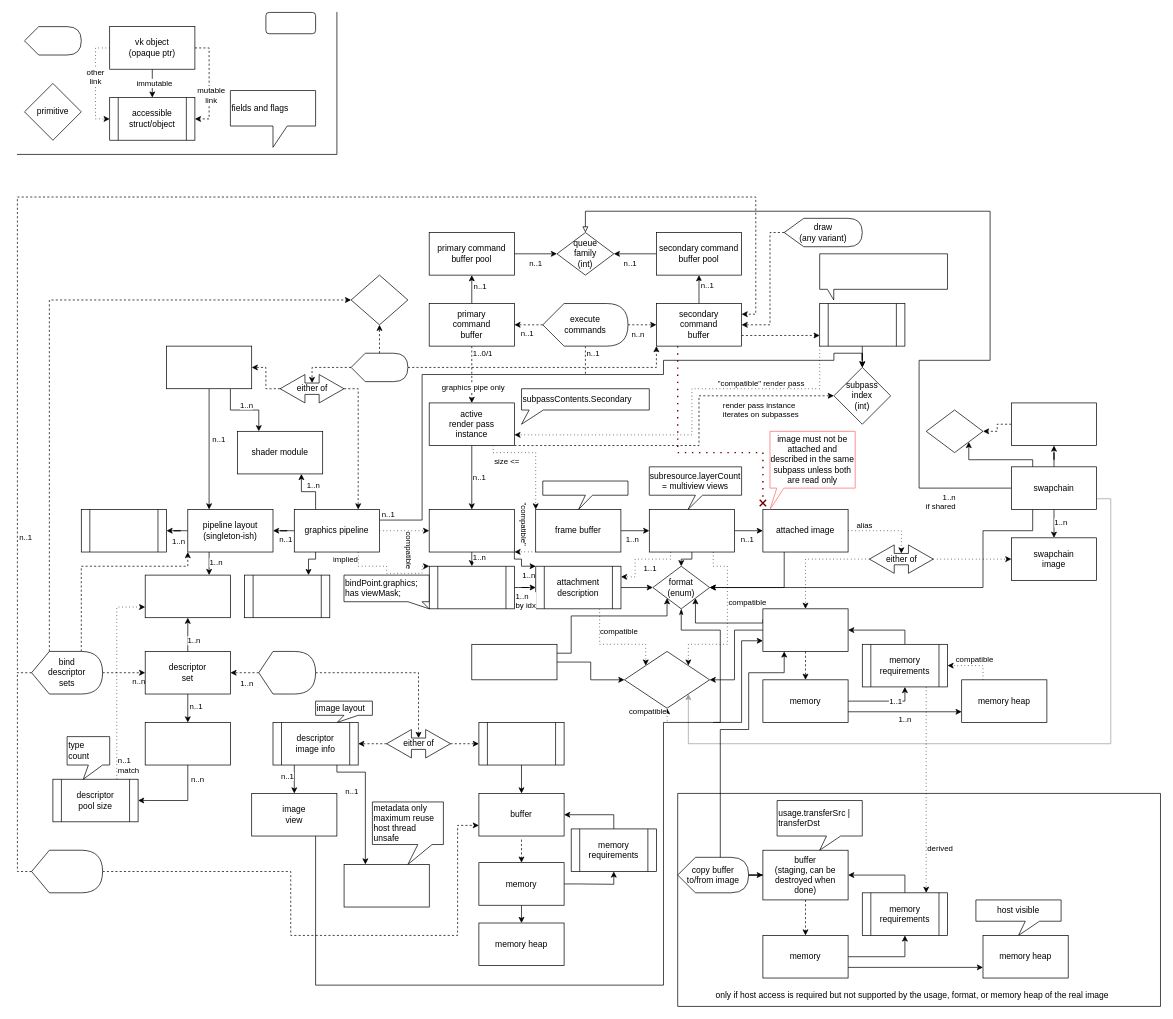
Some shapes in this 1173 by 1019 pixel diagram are drawn without their labels. Each missing label, with the centre of its shape:
"bind pipeline" belongs at point 379,367.
"bind point (enum)" belongs at point 379,299.
"bind vertex buffer" belongs at point 67,871.
"command buffer begin info + inheritance info" belongs at point 862,324.
"compute pipeline" belongs at point 209,367.
"descriptor buffer info" belongs at point 521,743.
"descriptor pool" belongs at point 187,743.
"descriptor set layout" belongs at point 187,596.
"extent" belongs at point 954,431.
"function" belongs at point 52,40.
"image sampler" belongs at point 386,885.
"image usage (bitmask)" belongs at point 667,679.
"image view of attachment" belongs at point 691,530.
"layers = 1" belongs at point 585,494.
"legend" belongs at point 290,23.
"normal image (non swapchain)" belongs at point 805,629.
"physical device format properties" belongs at point 514,662.
"pipeline * state create info" belongs at point 287,596.
"push constant range" belongs at point 123,530.
"render pass" belongs at point 471,530.
"subpass description" belongs at point 471,587.
"surface" belongs at point 1054,424.
"update descriptor sets" belongs at point 287,672.
"usage.render_pass_continue | usage.simultaneous_use; framebuffer = null;" belongs at point 883,276.
